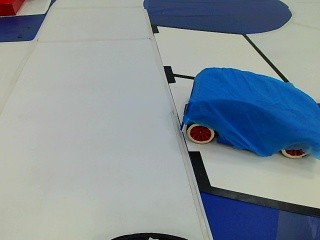car: (175, 64, 318, 161)
